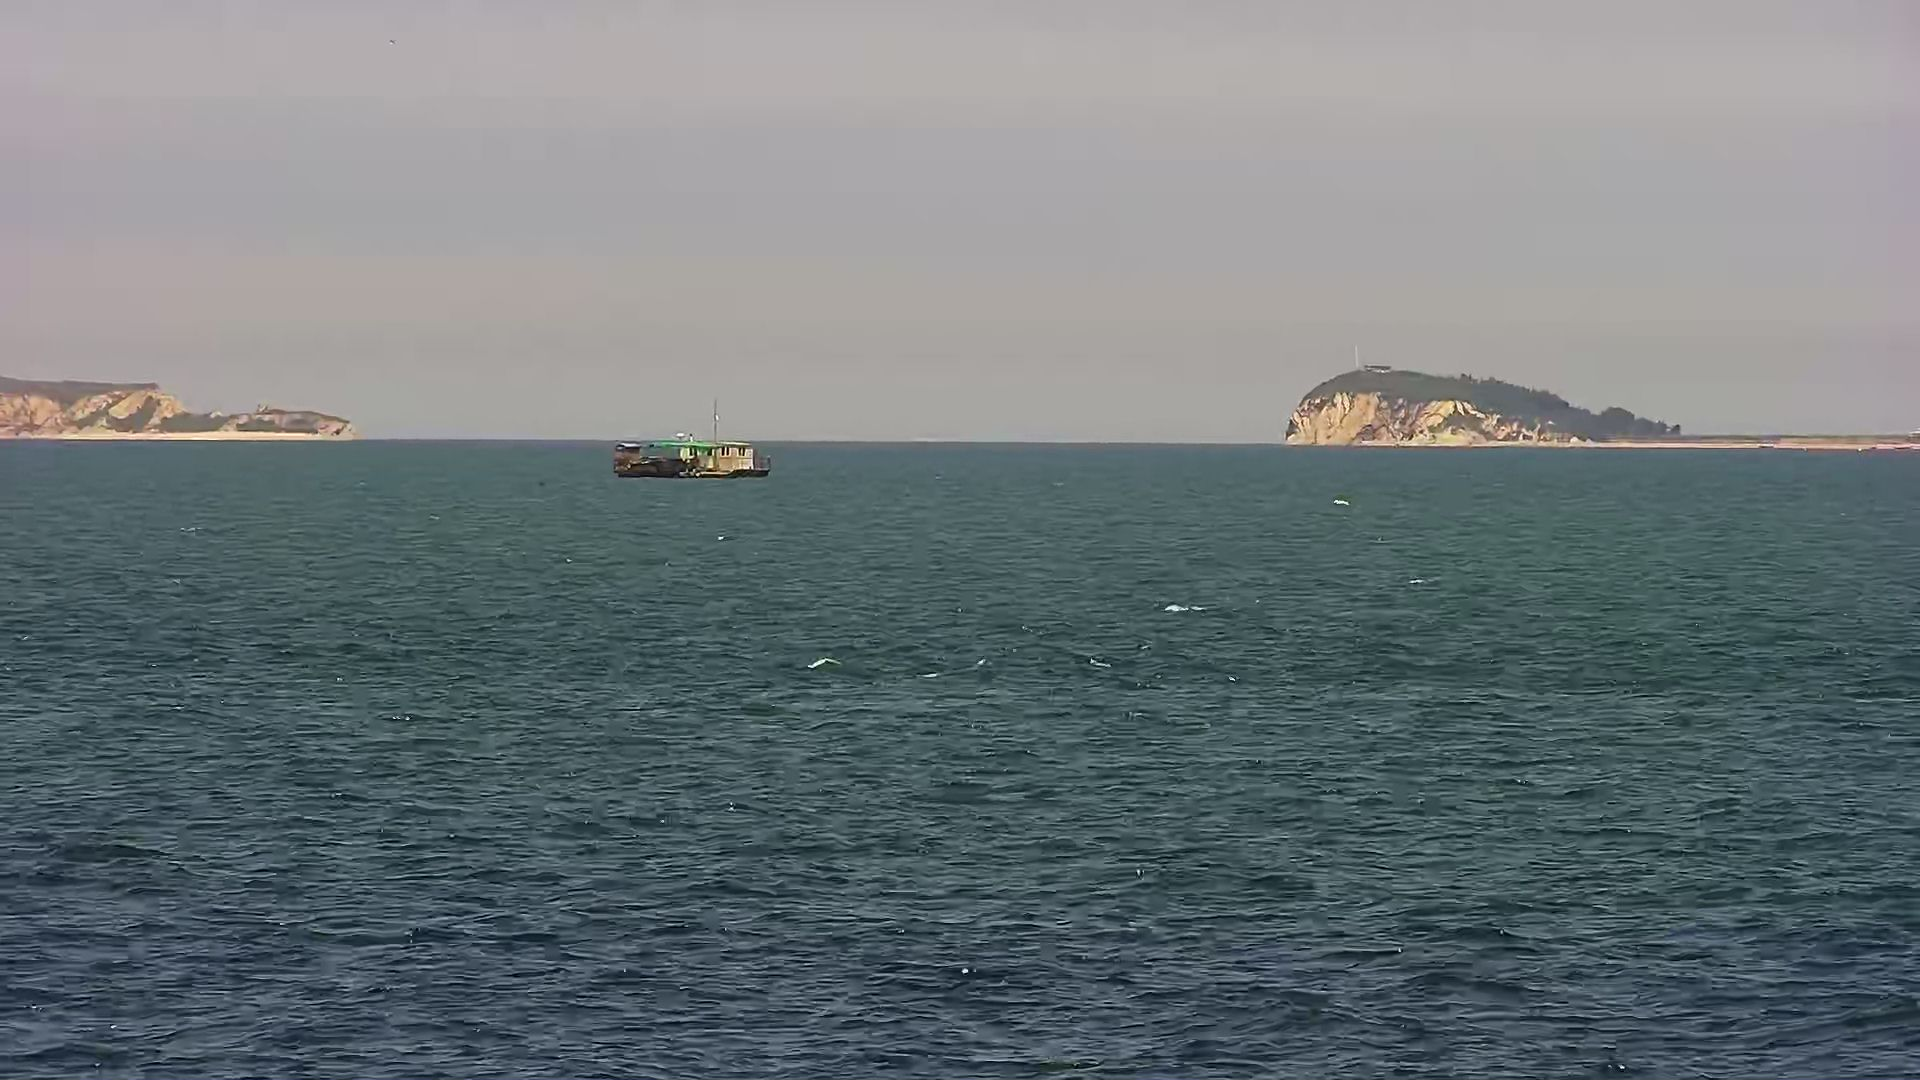platform: (608, 397, 782, 492)
rock: (1249, 344, 1920, 456), (1, 372, 368, 443)
